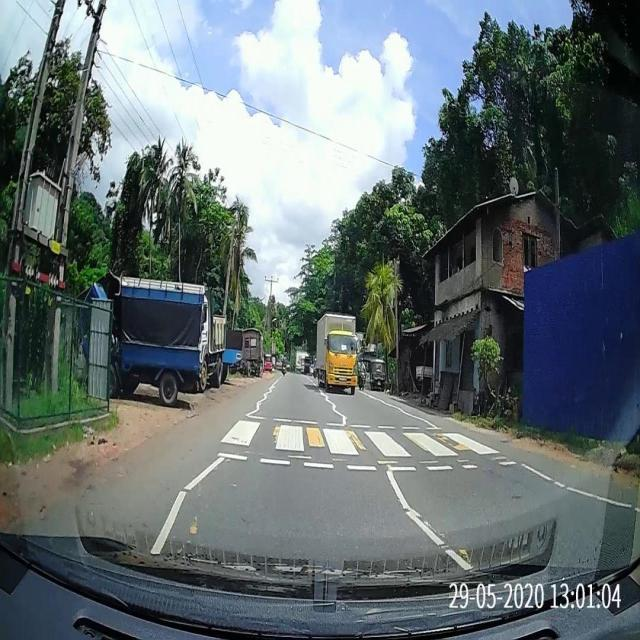Crosswalk: (199, 413, 535, 473)
